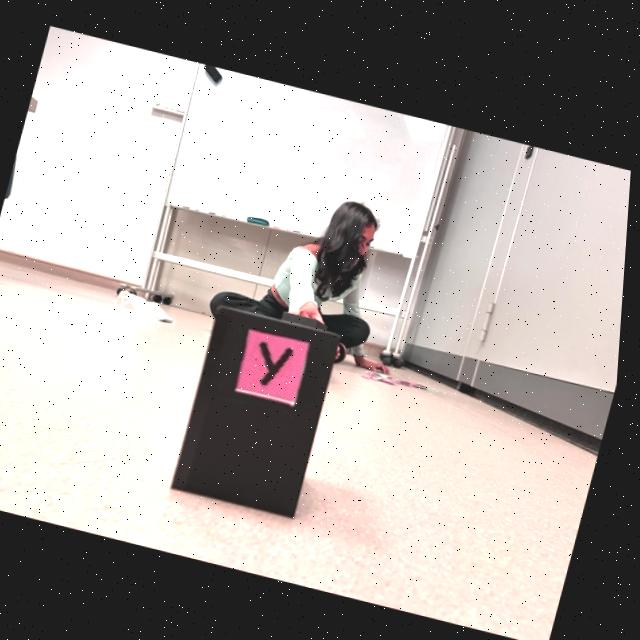Y: (264, 340, 297, 384)
